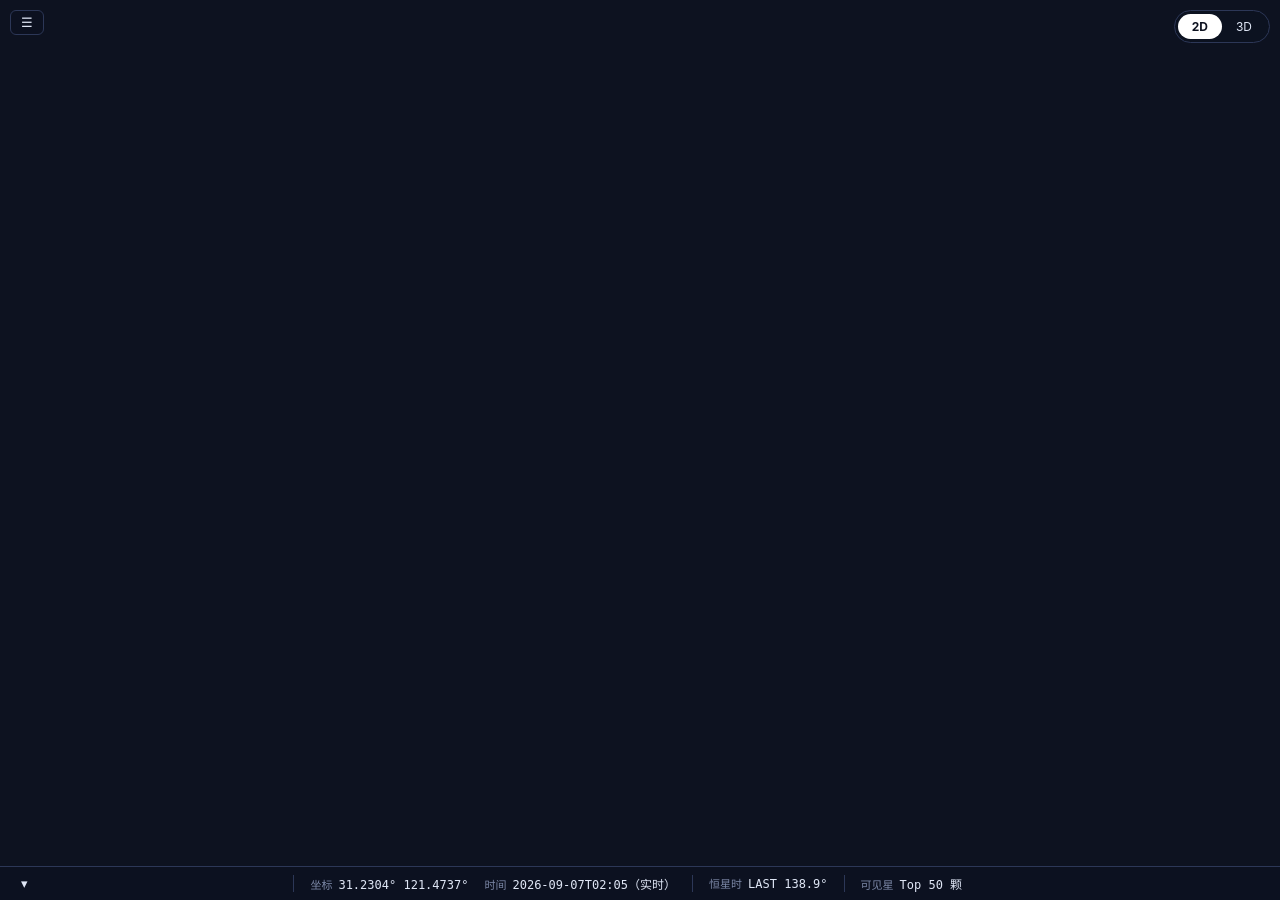
Scenario: App › 设置弹框内查看星表
The width and height of the screenshot is (1280, 900).
Click the button named "菜单": (27, 22) 10,10 -> 44,35
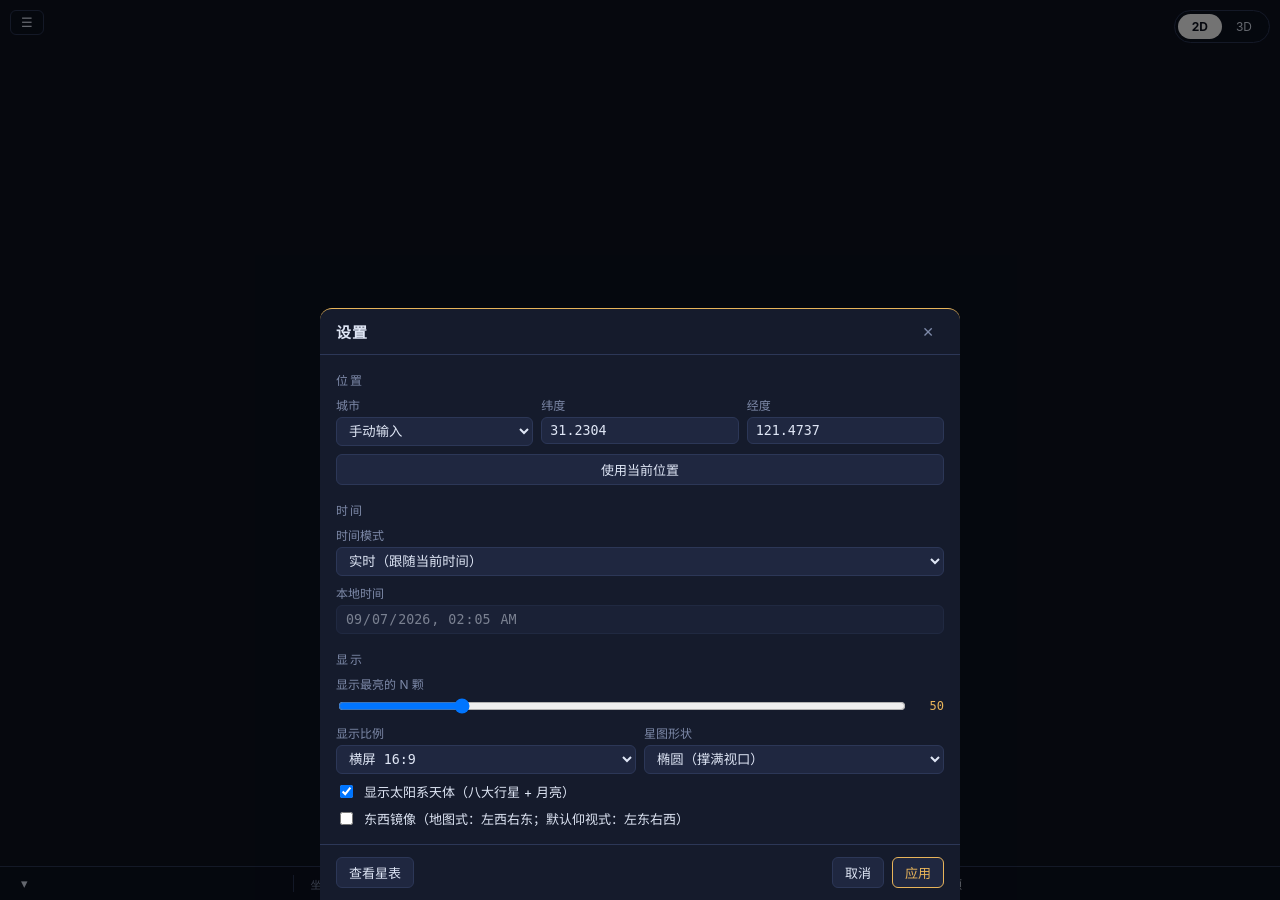
Click the button "查看星表": (375, 872) 336,857 -> 414,888
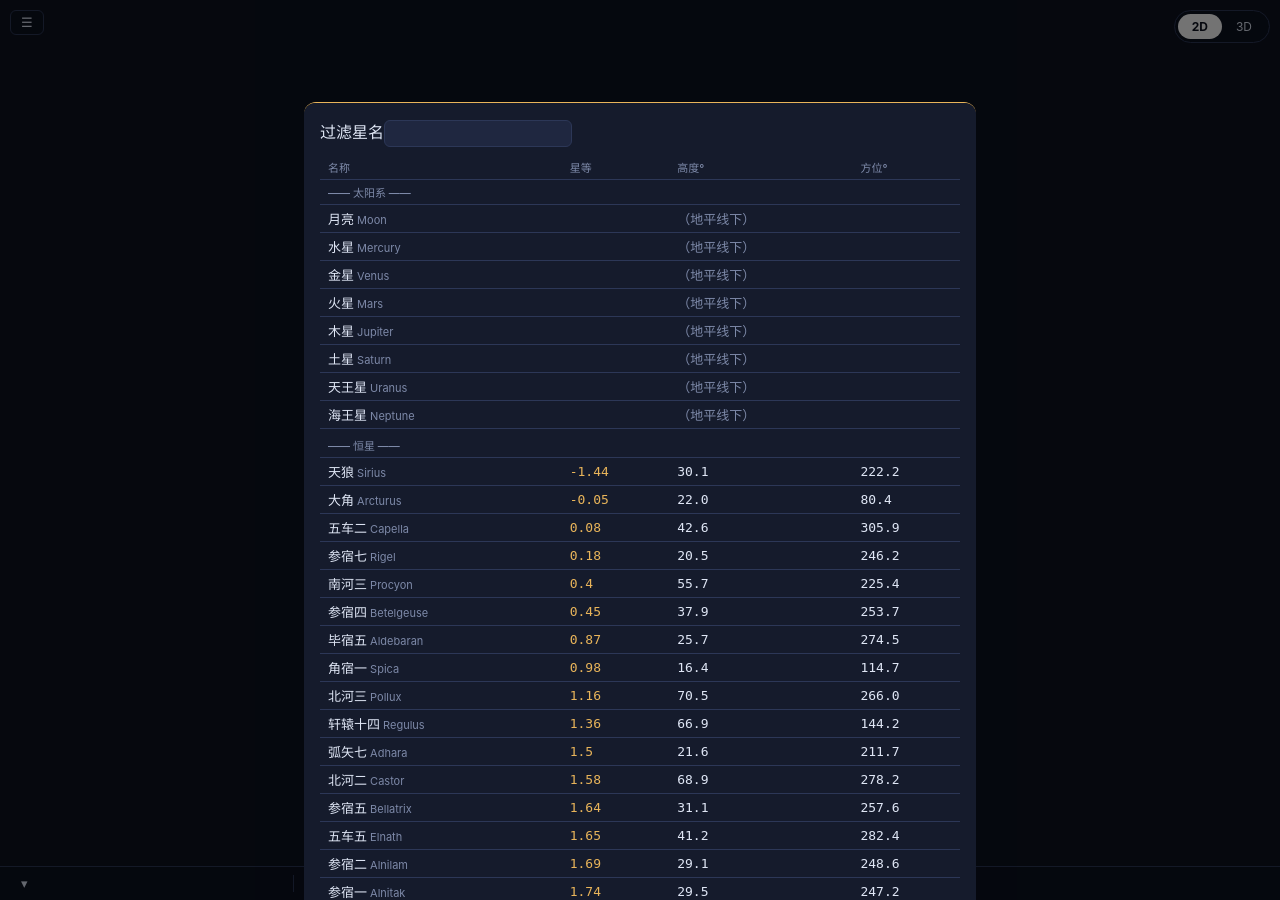
Result: the dialog named "星表" is shown
Result: the text "设置" is gone
